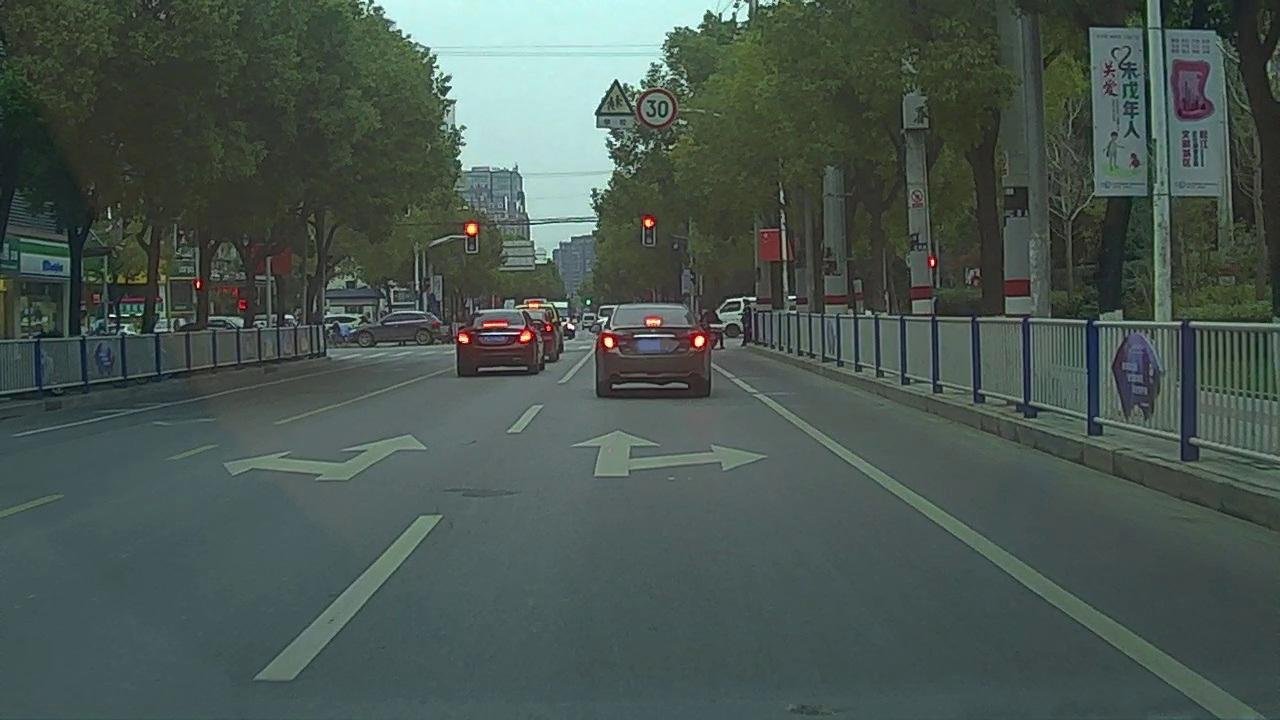traffic_light: (466, 224, 477, 250), (644, 219, 655, 244)
